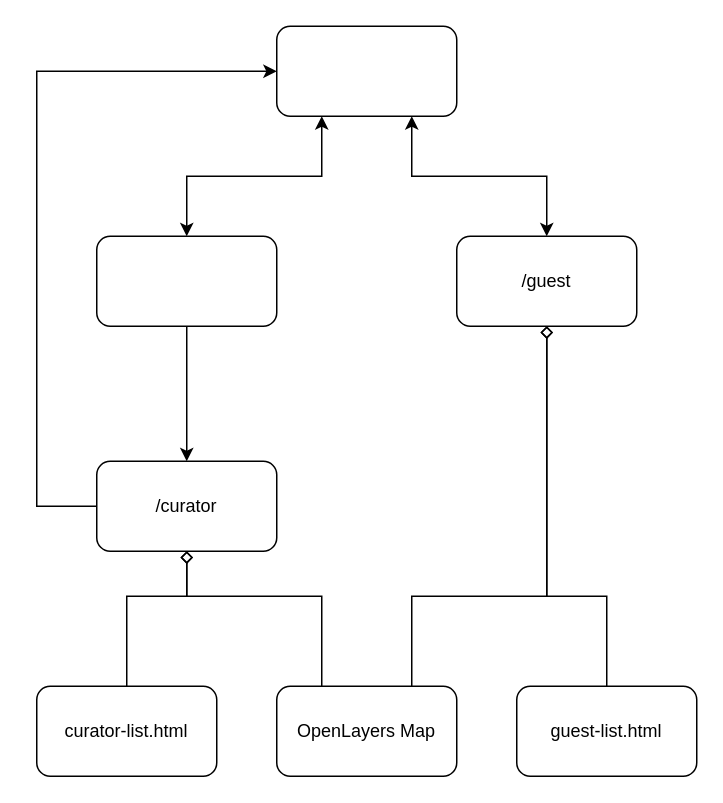
Image size: 723x803. Some labels were removed from this diagram. Here are the shapes that lost their labels. From the top down, the centre of each, then its label:
At (x=366, y=70): "/welcome".
At (x=186, y=280): "/login".
